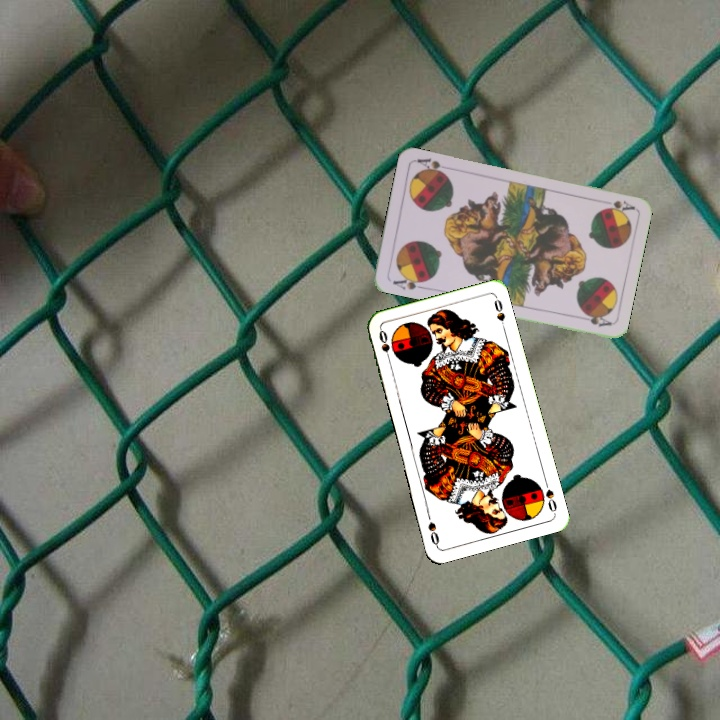SA: (389, 271, 429, 292), (600, 196, 637, 215)
SO: (375, 326, 393, 366), (541, 476, 559, 516)
